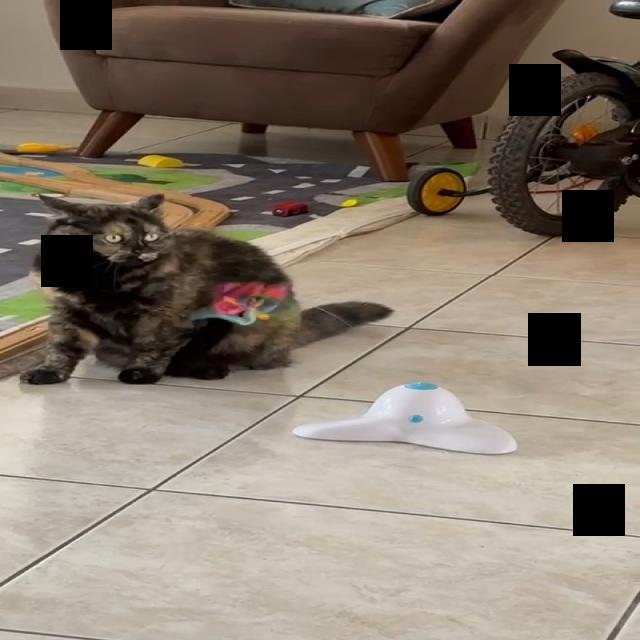authorized: (19, 192, 393, 385)
